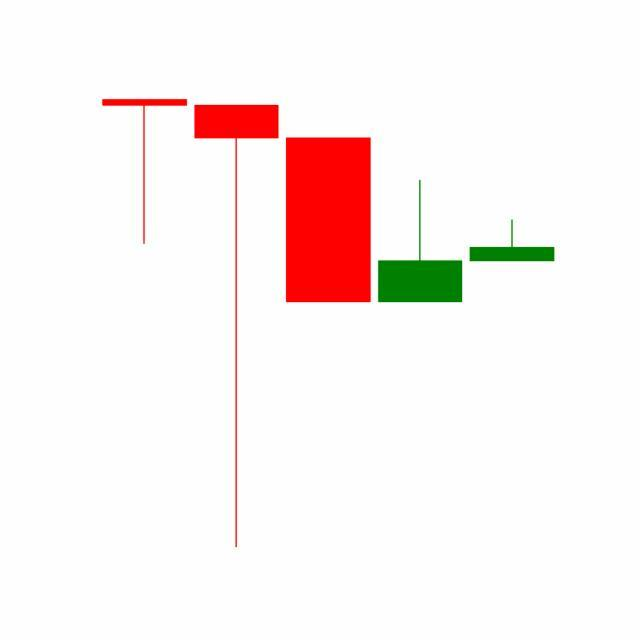Gravestone Doji: (466, 219, 559, 263)
